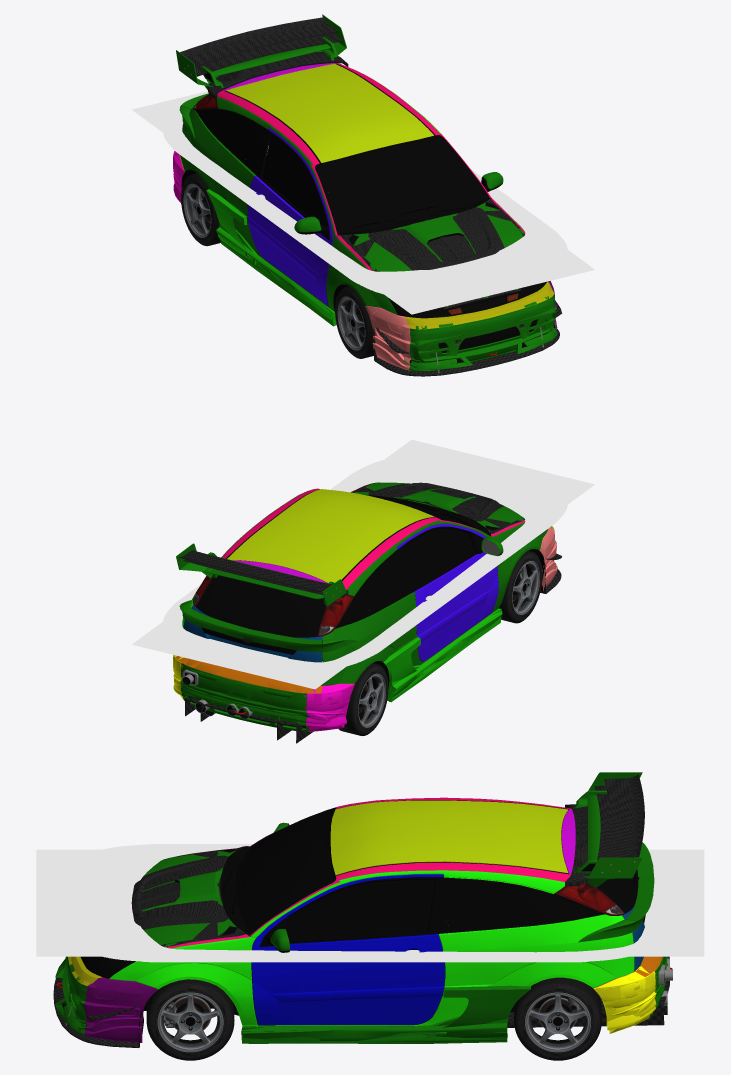
The model's file is focus_1.fbx.
3 views of the same model, one above another, from view 1: azimuth 30°, elevation 25°; view 2: azimuth 150°, elevation 25°; view 3: azimuth 270°, elevation 25° (orthographic). The views are drawn at different scales.
Visible parts, largest first — view 1: for_focussvt_03_body_body_, neon (×3), for_focussvt_03_glassF_window_, shadow, for_focussvt_03_wingrace_carbon_fiber_, for_focussvt_03_hoodf_carbon_fiber_, for_focussvt_03_bumperFe_body_, for_focussvt_03_bumperFg_body_, for_focussvt_03_body_rubber_trim_, for_focussvt_03_glassRF_window_, for_focussvt_03_body_black_glass_, for_focussvt_03_hoodd_body_ (+16 smaller); view 2: for_focussvt_03_body_body_, neon (×3), shadow, for_focussvt_03_glassR_window_, for_focussvt_03_bumperRg_body_, for_focussvt_03_glassRF_window_, for_focussvt_03_wheel_tire_ (×2), for_focussvt_03_wingf_body_, for_focussvt_03_bumperRe_body_, for_focussvt_03_body_rubber_trim_, for_focussvt_03_wheel_rim_ (×2), for_focussvt_03_body_black_glass_ (+18 smaller); view 3: for_focussvt_03_body_body_, neon (×3), for_focussvt_03_glassLF_window_, for_focussvt_03_glassF_window_, for_focussvt_03_wheel_tire_ (×2), shadow, for_focussvt_03_wheel_rim_ (×2), for_focussvt_03_glassLR_window_, for_focussvt_03_body_rubber_trim_, for_focussvt_03_wingrace_carbon_fiber_, for_focussvt_03_hoodf_carbon_fiber_, for_focussvt_03_body_black_glass_ (+30 smaller).
Part boxes in pixels (bbox=[...]): for_focussvt_03_body_body_: bbox=[180, 63, 525, 314]; neon (×3): bbox=[132, 91, 594, 314]; for_focussvt_03_glassF_window_: bbox=[319, 139, 480, 227]; shadow: bbox=[163, 112, 567, 298]; for_focussvt_03_wingrace_carbon_fiber_: bbox=[180, 17, 342, 76]; for_focussvt_03_hoodf_carbon_fiber_: bbox=[375, 213, 504, 306]; for_focussvt_03_bumperFe_body_: bbox=[365, 281, 555, 369]; for_focussvt_03_bumperFg_body_: bbox=[368, 288, 554, 369]; for_focussvt_03_body_rubber_trim_: bbox=[195, 63, 520, 316]; for_focussvt_03_glassRF_window_: bbox=[262, 134, 323, 222]; for_focussvt_03_body_black_glass_: bbox=[201, 109, 487, 233]; for_focussvt_03_hoodd_body_: bbox=[341, 202, 523, 307]; for_focussvt_03_body_body_: bbox=[182, 485, 547, 685]; neon (×3): bbox=[132, 439, 594, 689]; shadow: bbox=[163, 454, 567, 671]; for_focussvt_03_glassR_window_: bbox=[205, 576, 321, 632]; for_focussvt_03_bumperRg_body_: bbox=[173, 657, 351, 724]; for_focussvt_03_glassRF_window_: bbox=[401, 528, 474, 586]; for_focussvt_03_wheel_tire_ (×2): bbox=[338, 550, 542, 735]; for_focussvt_03_wingf_body_: bbox=[179, 600, 357, 652]; for_focussvt_03_bumperRe_body_: bbox=[173, 655, 346, 731]; for_focussvt_03_body_rubber_trim_: bbox=[201, 489, 491, 654]; for_focussvt_03_wheel_rim_ (×2): bbox=[358, 561, 539, 727]; for_focussvt_03_body_black_glass_: bbox=[196, 515, 451, 637]; for_focussvt_03_body_body_: bbox=[109, 797, 644, 1026]; neon (×3): bbox=[36, 849, 704, 961]; for_focussvt_03_glassLF_window_: bbox=[288, 879, 435, 940]; for_focussvt_03_glassF_window_: bbox=[241, 811, 331, 925]; for_focussvt_03_wheel_tire_ (×2): bbox=[146, 977, 601, 1060]; shadow: bbox=[53, 844, 677, 962]; for_focussvt_03_wheel_rim_ (×2): bbox=[157, 992, 591, 1052]; for_focussvt_03_glassLR_window_: bbox=[446, 880, 579, 926]; for_focussvt_03_body_rubber_trim_: bbox=[80, 800, 645, 957]; for_focussvt_03_wingrace_carbon_fiber_: bbox=[594, 774, 644, 860]; for_focussvt_03_hoodf_carbon_fiber_: bbox=[131, 859, 222, 929]; for_focussvt_03_body_black_glass_: bbox=[234, 808, 638, 933].
Bounding box in the file's own units: 4 × 1.54 × 5.
